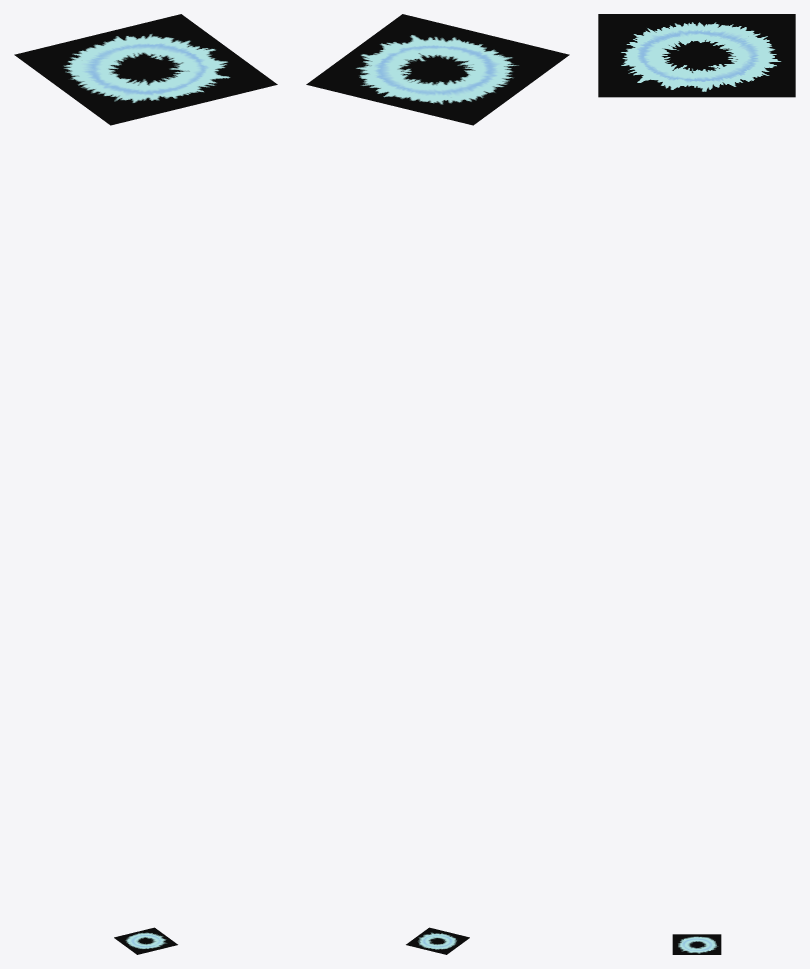
File: Effect_Wave.fbx
3 renders of one model, left to right at view 1: azimuth 30°, elevation 25°; view 2: azimuth 150°, elevation 25°; view 3: azimuth 270°, elevation 25°, orthographic. The views are drawn at different scales.
Parts seen in each view (by area): view 1: P_WaveA, P_WaveB; view 2: P_WaveA, P_WaveB; view 3: P_WaveA, P_WaveB.
Part boxes in pixels (x1=…): P_WaveA: x1=14, y1=14, x2=277, y2=125; P_WaveB: x1=114, y1=927, x2=177, y2=954; P_WaveA: x1=306, y1=14, x2=569, y2=125; P_WaveB: x1=406, y1=927, x2=469, y2=954; P_WaveA: x1=598, y1=14, x2=795, y2=97; P_WaveB: x1=672, y1=934, x2=721, y2=954.
Size of the model in its own units: 0.4811 by 2.39 by 0.4811.
Materials: 1 (1 with a texture image).
